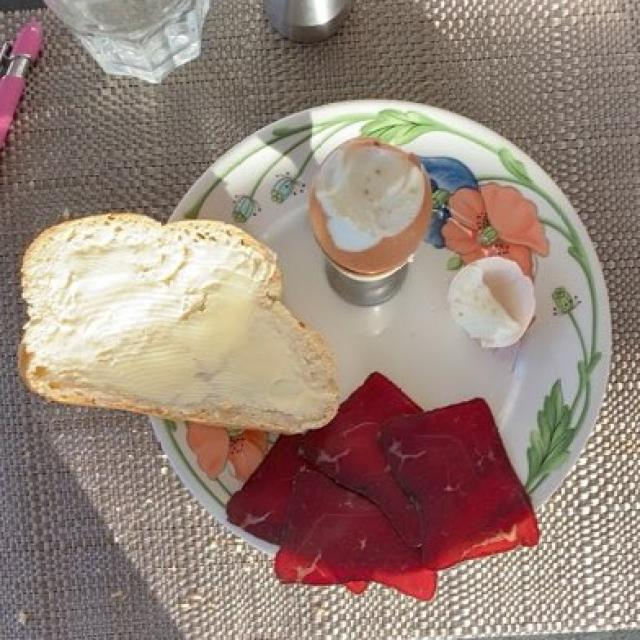braided-white-loaf: (23, 218, 335, 428)
butter: (24, 210, 322, 428)
dried-meat: (226, 385, 531, 593)
egg: (307, 140, 430, 270)
